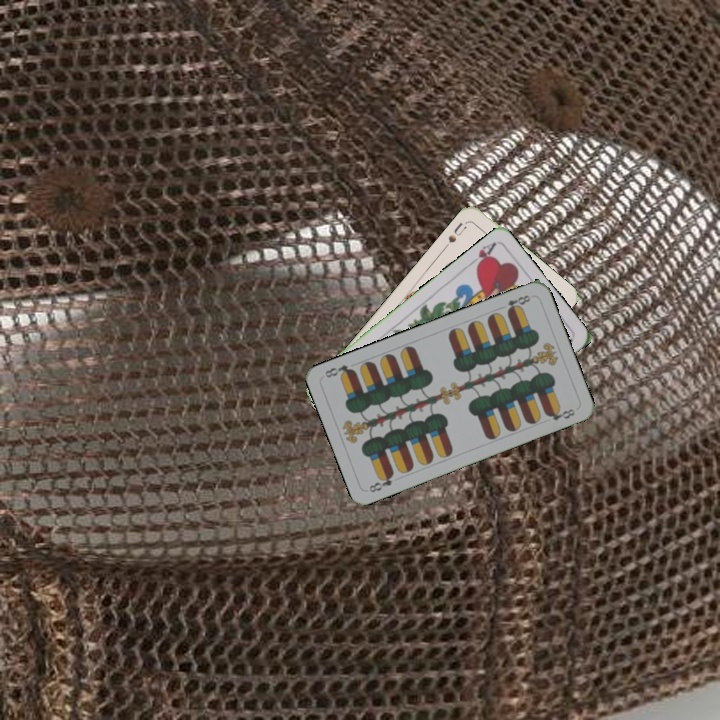E8: (496, 291, 533, 315), (365, 469, 396, 495)
HA: (464, 238, 498, 272)
SU: (440, 218, 469, 251)
